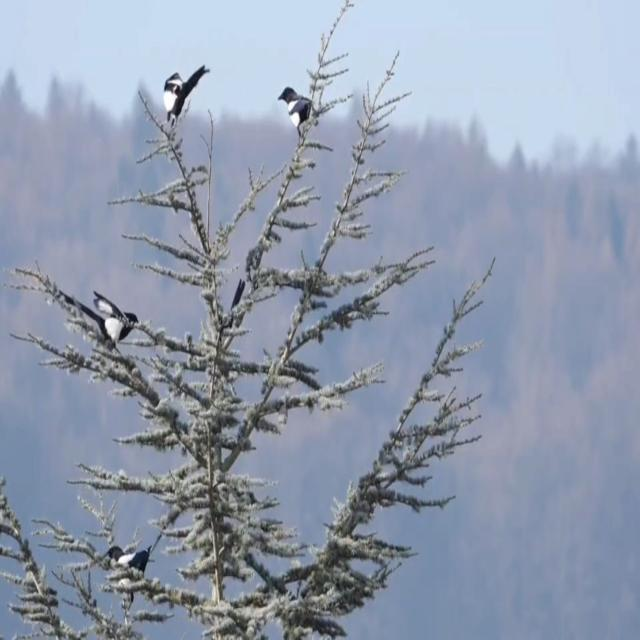bird: (55, 262, 145, 369), (156, 51, 215, 146), (274, 70, 326, 166), (99, 524, 157, 598), (205, 267, 254, 352)
